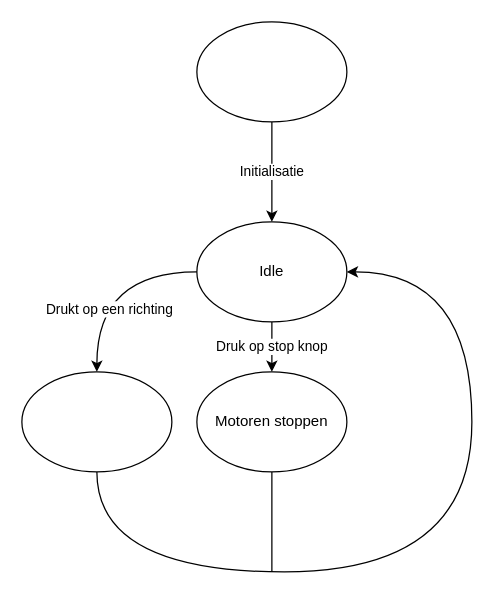
Image size: 494x595. Some labels were removed from this diagram. Each missing label, with the box of its shape:
Motoren aansturen: (21, 371, 172, 472)
Start: (196, 21, 347, 122)
